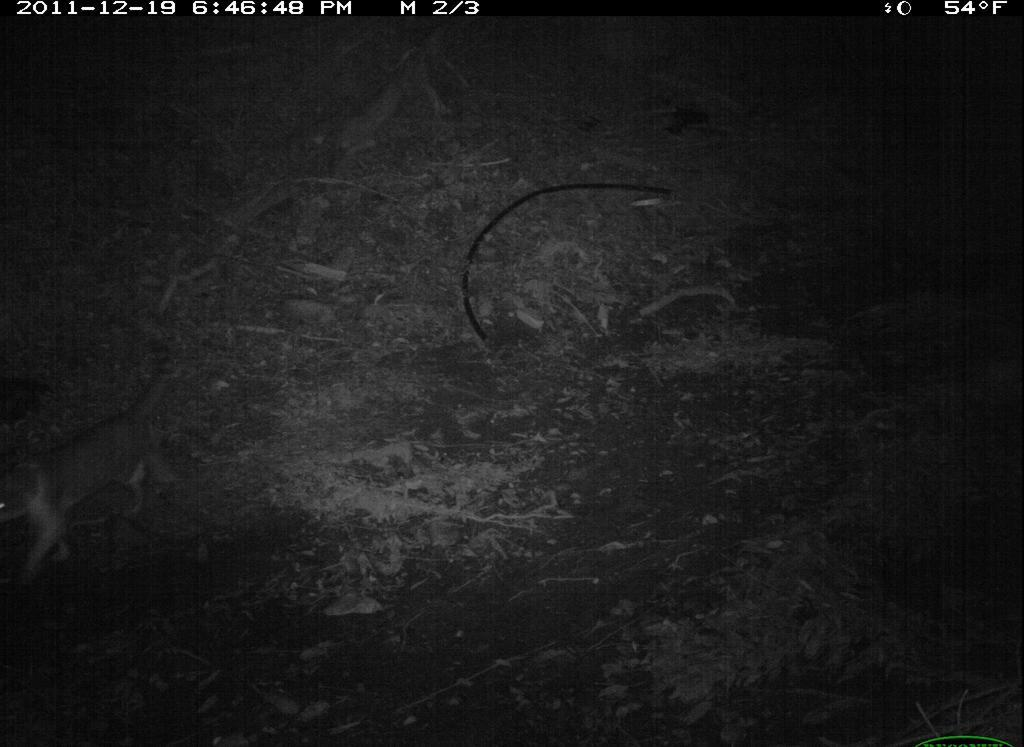cat: (1, 327, 195, 590)
